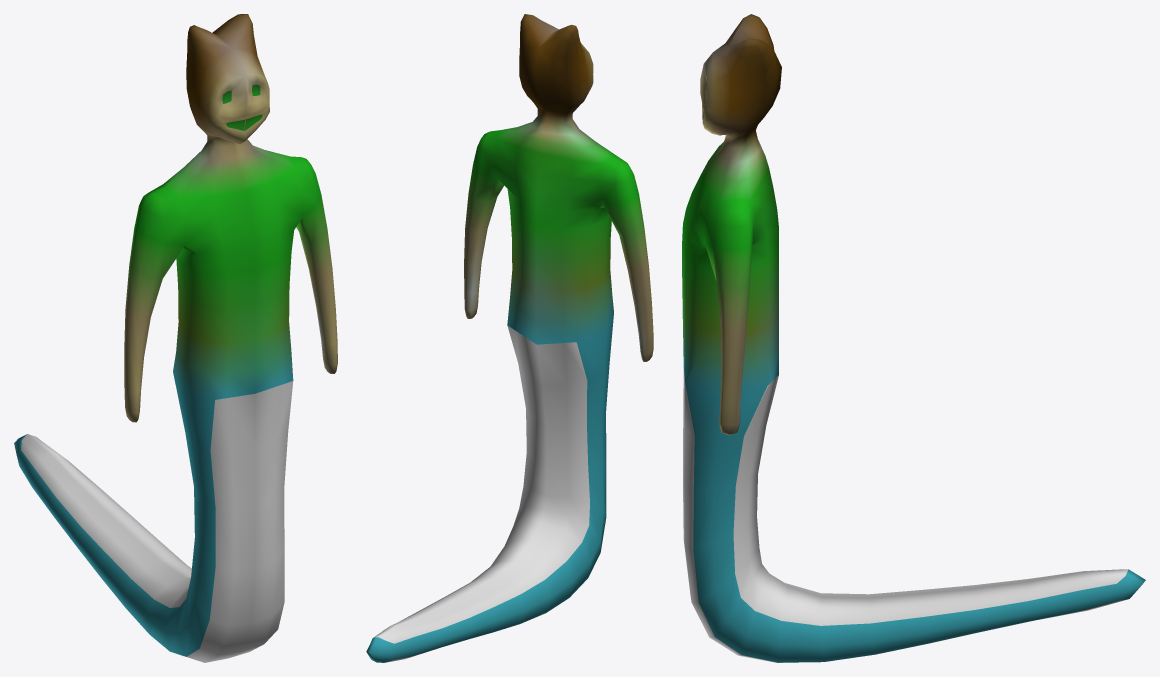
File: mini boss 1.fbx
3 renders of one model, left to right at view 1: azimuth 30°, elevation 25°; view 2: azimuth 150°, elevation 25°; view 3: azimuth 270°, elevation 25°, orthographic. The views are drawn at different scales.
Parts seen in each view (by area): view 1: boss 1; view 2: boss 1; view 3: boss 1.
Boxes of the visible parts, left/top/right/bottom form: boss 1: left=14, top=14, right=337, bottom=662; boss 1: left=366, top=14, right=653, bottom=662; boss 1: left=682, top=14, right=1145, bottom=662.
Bounding box in the file's own units: 295 × 862 × 580.
